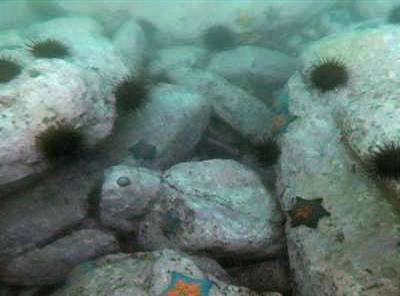urchin: (35, 121, 87, 163), (307, 57, 350, 94), (112, 74, 149, 112), (368, 138, 400, 178), (26, 36, 73, 59), (256, 135, 286, 168), (203, 23, 238, 51), (0, 50, 26, 83)
